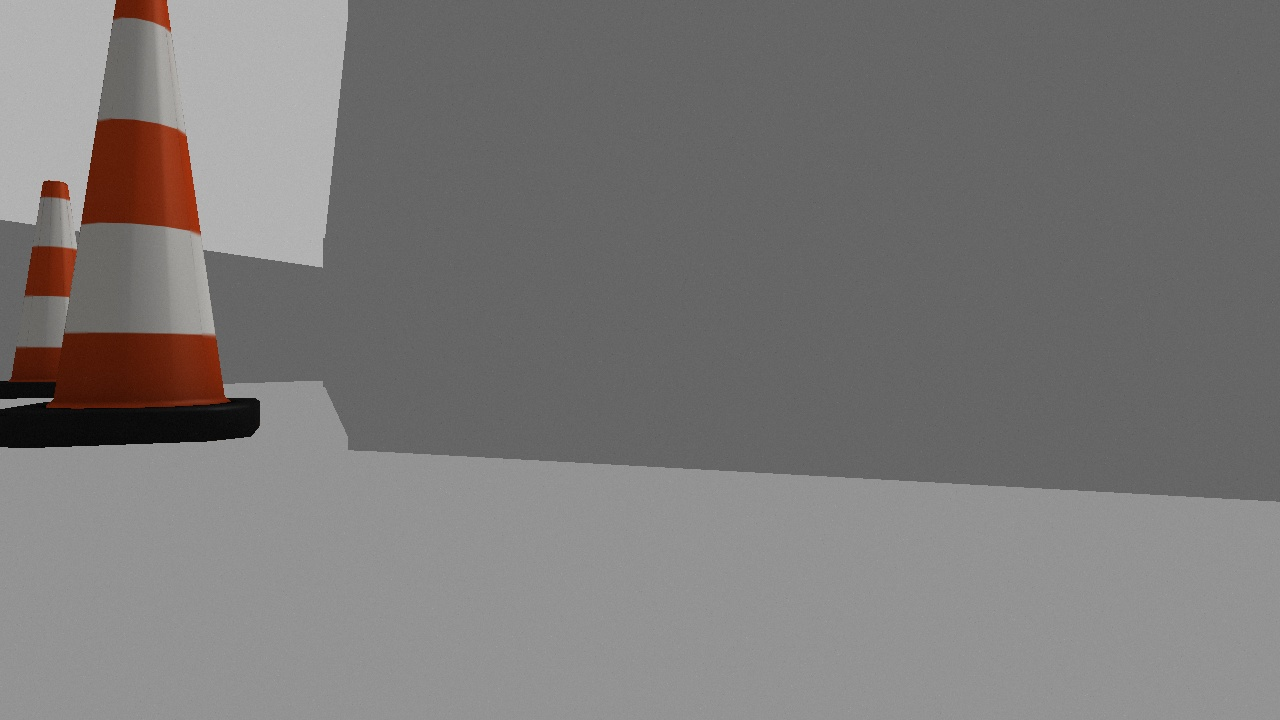barricade: (1, 1, 259, 449), (1, 178, 101, 400)
